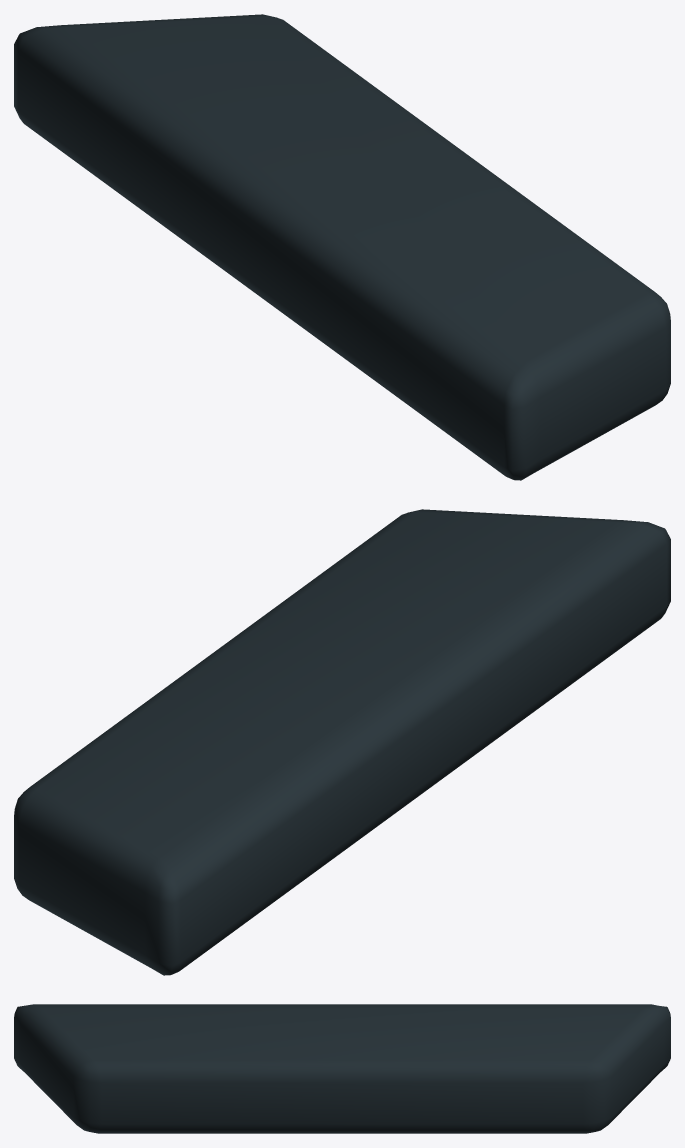
The model's file is ModControlWall01.fbx.
3 renders of one model, top to bottom at view 1: azimuth 30°, elevation 25°; view 2: azimuth 150°, elevation 25°; view 3: azimuth 270°, elevation 25°, orthographic. The views are drawn at different scales.
Visible parts, largest first — view 1: ModControlWall_01; view 2: ModControlWall_01; view 3: ModControlWall_01.
Boxes of the visible parts, box(x1,y1,x2,y2) form: ModControlWall_01: box(14, 14, 670, 480); ModControlWall_01: box(14, 509, 670, 975); ModControlWall_01: box(14, 1004, 670, 1133).
Bounding box in the file's own units: 49.56 × 23.59 × 195.
